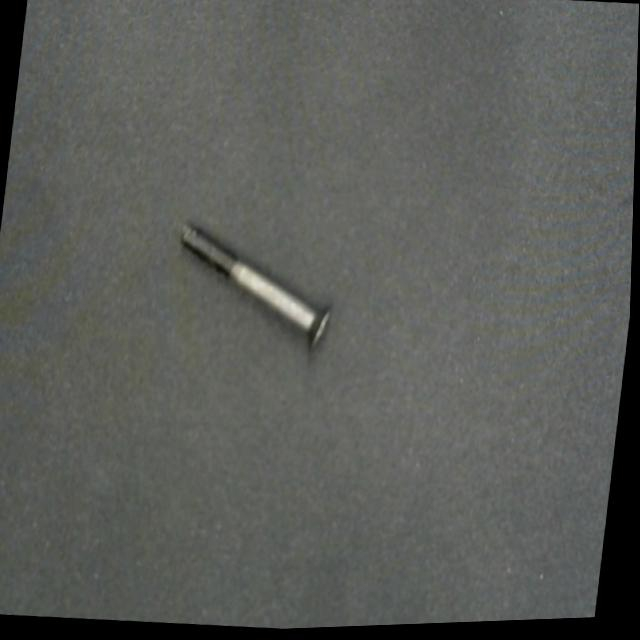FlatHeadSocketScrew: (168, 214, 345, 362)
